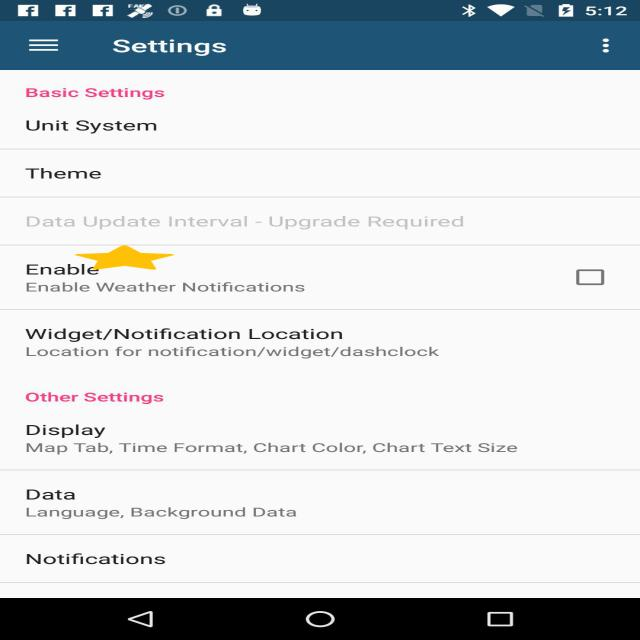forced continuity: (75, 245, 174, 270)
